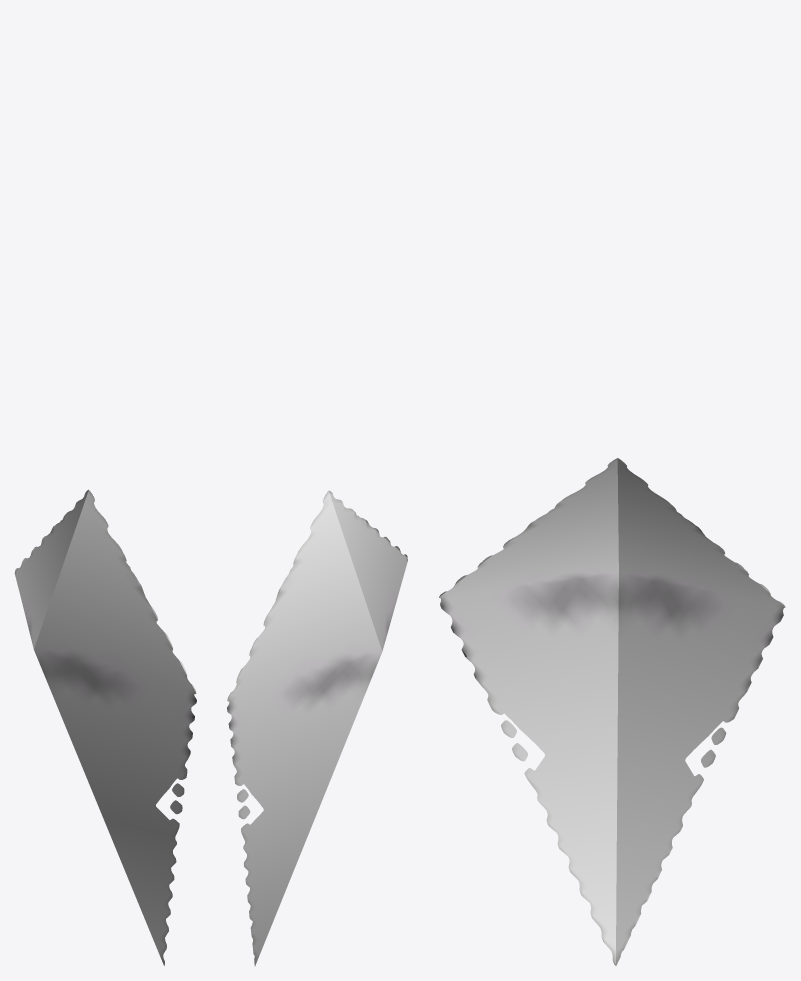
Rendered from earring_s11_l2.fbx.
3 views of the same model, side by side, from view 1: azimuth 30°, elevation 25°; view 2: azimuth 150°, elevation 25°; view 3: azimuth 270°, elevation 25° (orthographic). The views are drawn at different scales.
Visible parts, largest first — view 1: mesh_node; view 2: mesh_node; view 3: mesh_node.
Boxes of the visible parts, left/top/right/bottom form: mesh_node: left=14, top=489, right=196, bottom=965; mesh_node: left=227, top=490, right=407, bottom=965; mesh_node: left=439, top=458, right=785, bottom=965.
Size of the model in its own units: 0.0095 by 0.068 by 0.0233.
Materials: 1 (1 with a texture image).
